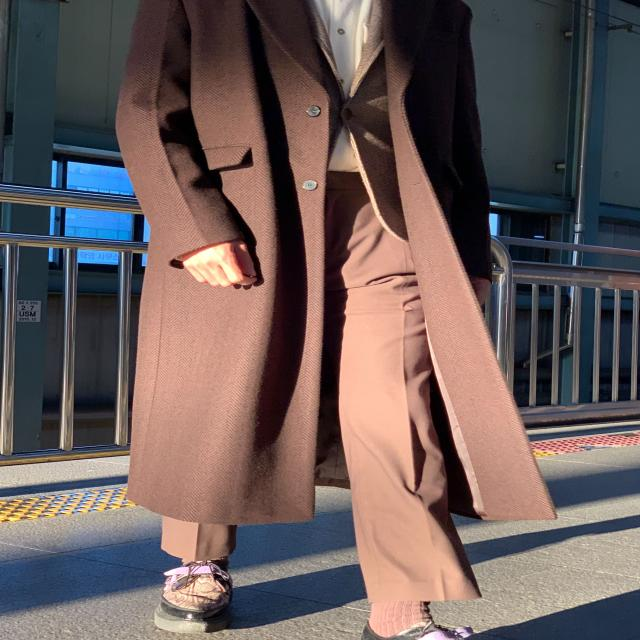coat: (115, 0, 560, 526)
slacks: (159, 167, 482, 599)
